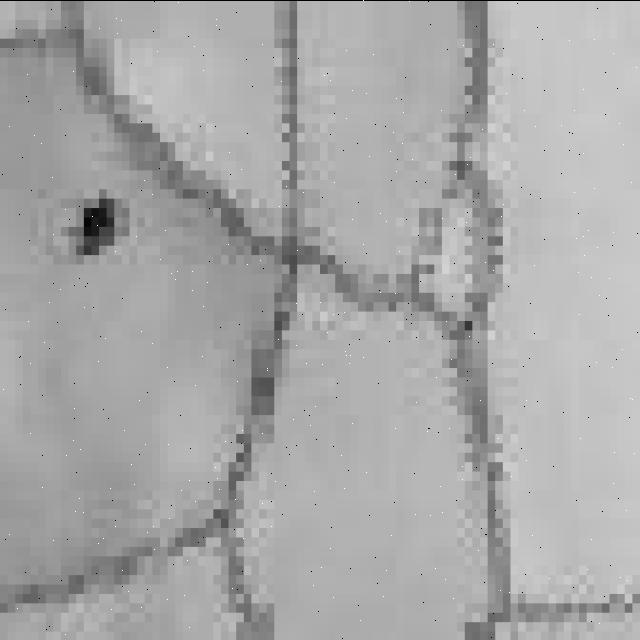good_void: (57, 177, 142, 269)
